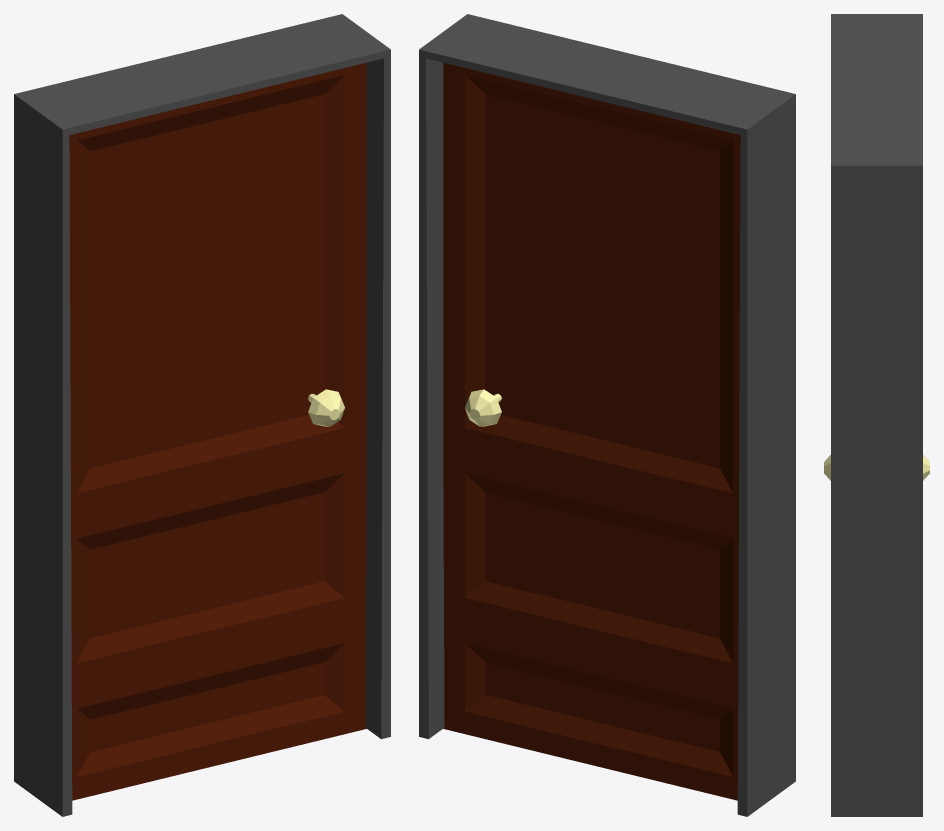
File: Door.fbx
3 views of the same model, side by side, from view 1: azimuth 30°, elevation 25°; view 2: azimuth 150°, elevation 25°; view 3: azimuth 270°, elevation 25° (orthographic). The views are drawn at different scales.
Parts seen in each view (by area): view 1: Puerta, BordePuerta, Manilla; view 2: Puerta, BordePuerta, Manilla; view 3: BordePuerta, Manilla.
Part boxes in pixels (x1=…): Puerta: x1=69, y1=62, x2=366, y2=800; BordePuerta: x1=14, y1=14, x2=390, y2=816; Manilla: x1=308, y1=389, x2=344, y2=426; Puerta: x1=443, y1=62, x2=740, y2=800; BordePuerta: x1=419, y1=14, x2=795, y2=816; Manilla: x1=465, y1=389, x2=501, y2=426; BordePuerta: x1=831, y1=14, x2=922, y2=816; Manilla: x1=824, y1=455, x2=929, y2=480.
Bounding box in the file's own units: 600 × 1203 × 177.
